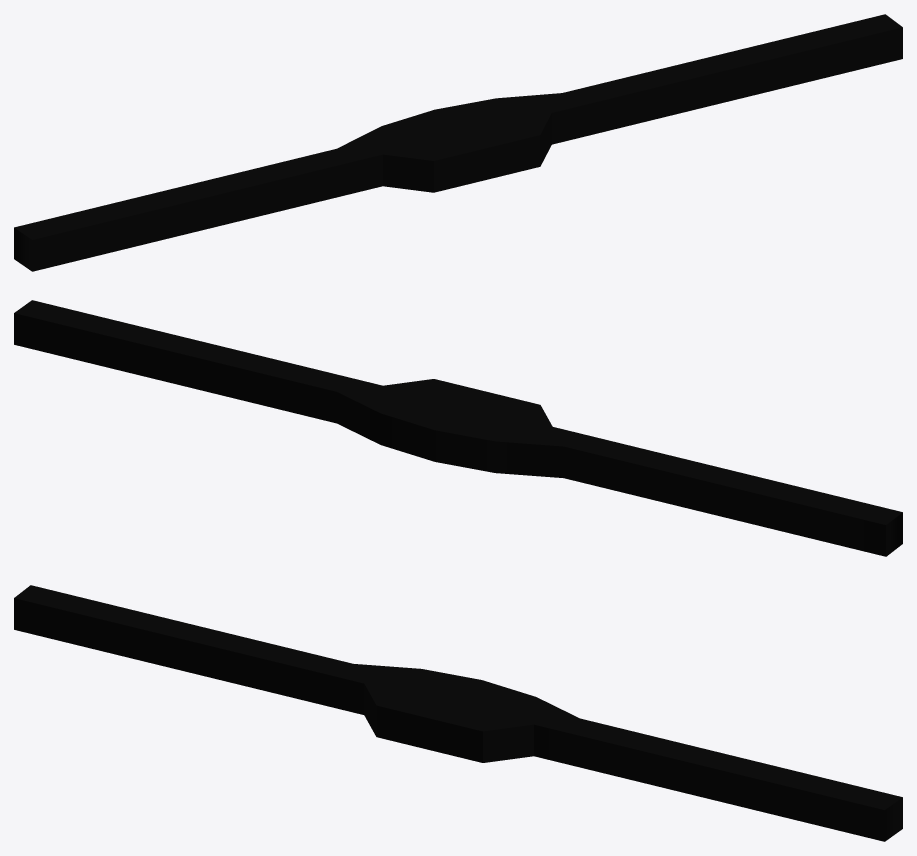
Rendered from header.fbx.
3 views of the same model, one above another, from view 1: azimuth 30°, elevation 25°; view 2: azimuth 150°, elevation 25°; view 3: azimuth 330°, elevation 25° (orthographic).
Visible parts, largest first — view 1: pCube1; view 2: pCube1; view 3: pCube1.
Part boxes in pixels (x1,y1,x2,y2): pCube1: [14, 14, 902, 271]; pCube1: [14, 300, 902, 556]; pCube1: [14, 585, 902, 841].
Bounding box in the file's own units: 63.23 × 2.19 × 6.6.
1 material, 1 textured.
